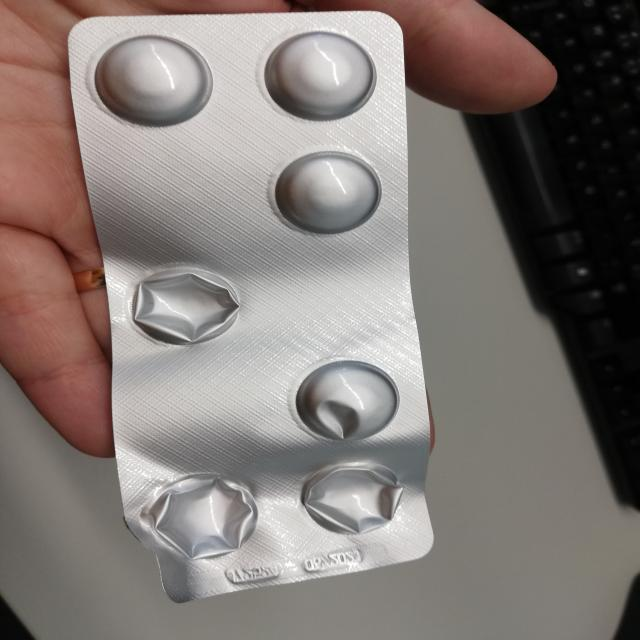Empty: (134, 471, 270, 562), (124, 264, 252, 348), (296, 456, 408, 538)
Pill: (89, 30, 218, 132), (263, 28, 380, 124), (267, 146, 389, 236), (293, 354, 400, 446)
